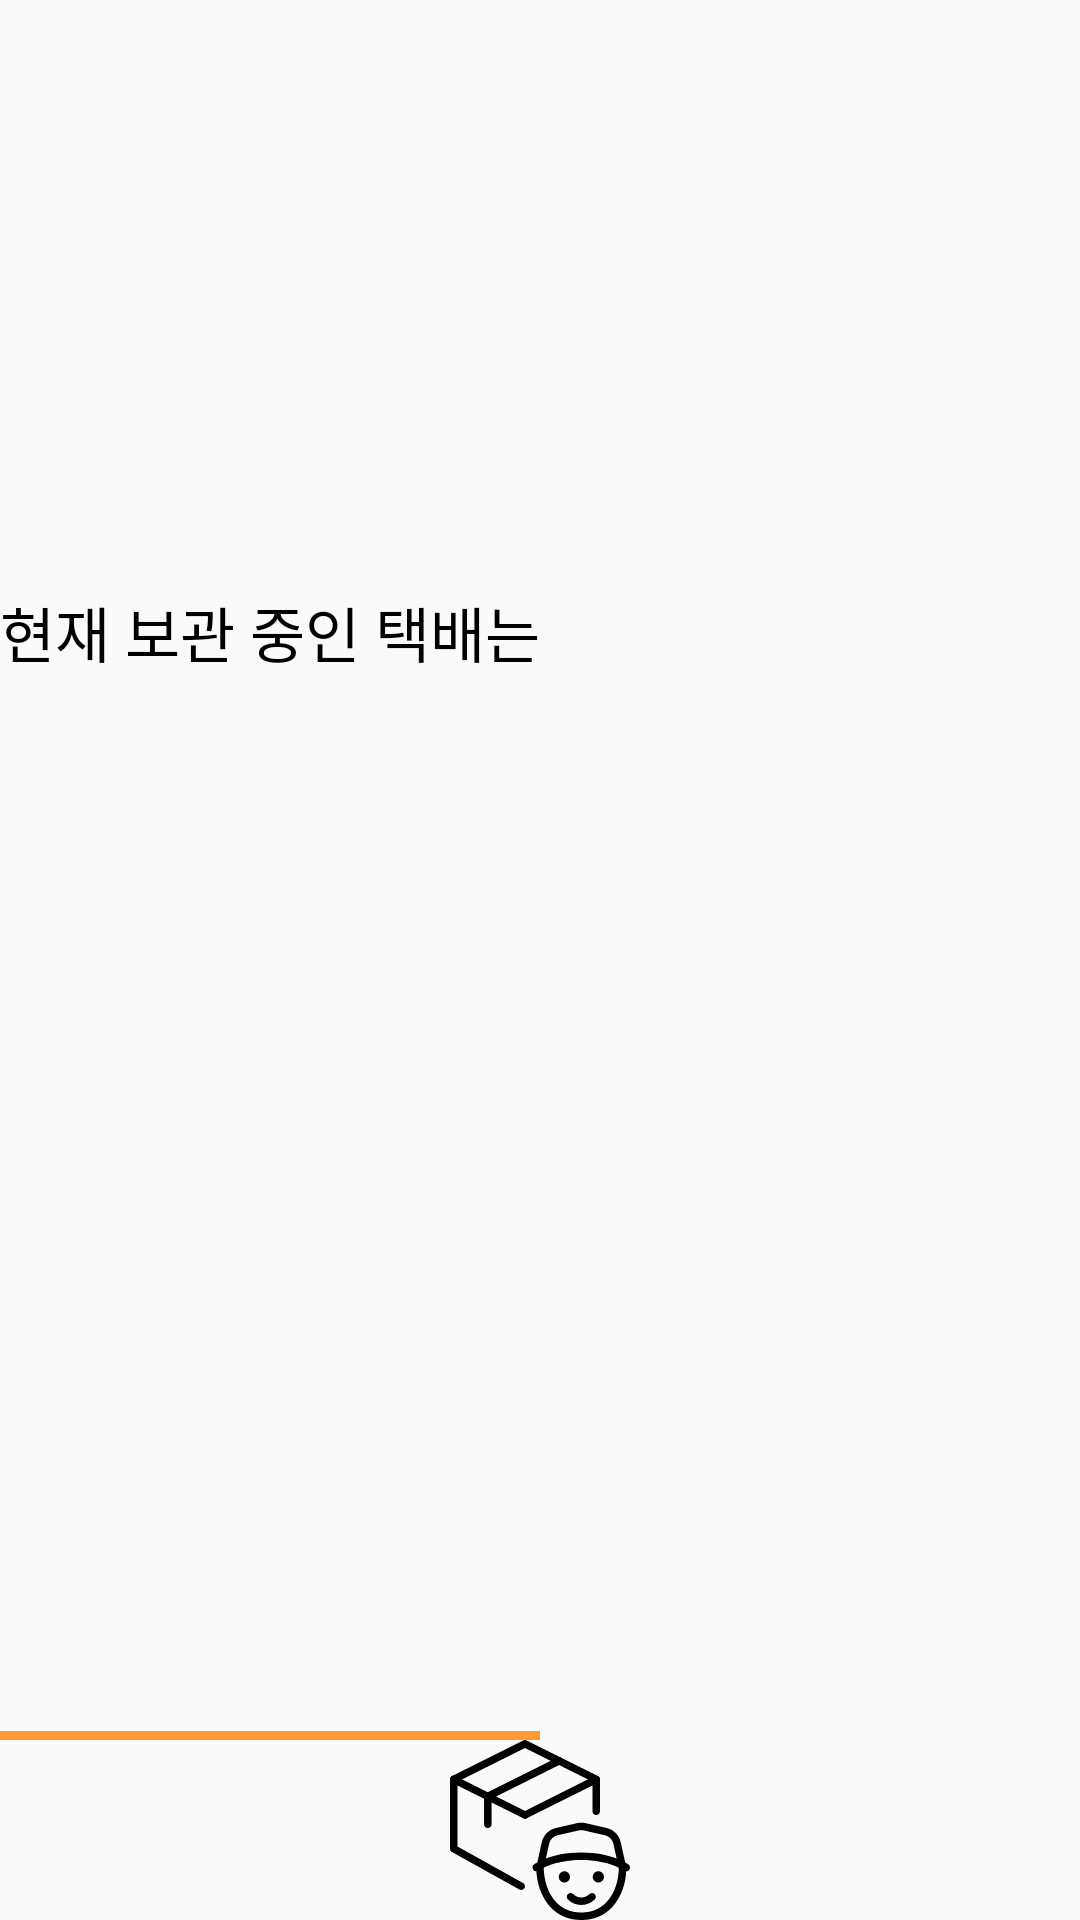

Icons on this 1080 x 1920 Android screen, each with the point to tap as point (x, y):
free delivery courier: point (540, 1830)
